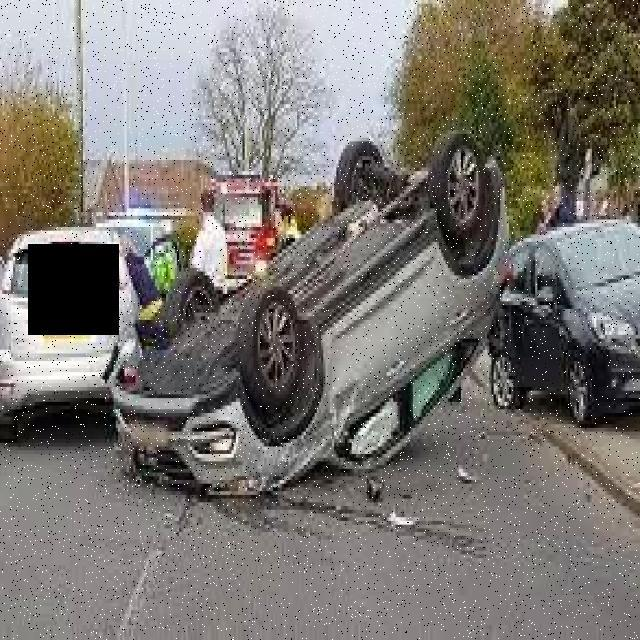severe: (108, 130, 508, 499)
